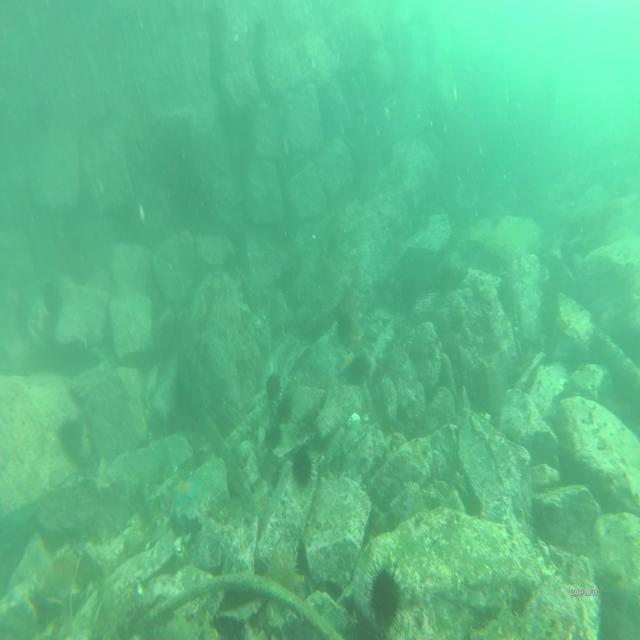echinus: (362, 558, 405, 634), (269, 550, 299, 596), (46, 550, 80, 589), (58, 414, 86, 457), (290, 440, 315, 484), (42, 281, 63, 316), (261, 417, 281, 451), (278, 394, 292, 423), (265, 372, 280, 398)
scallop: (346, 409, 364, 428)
starfish: (172, 478, 200, 510), (338, 345, 358, 379)
